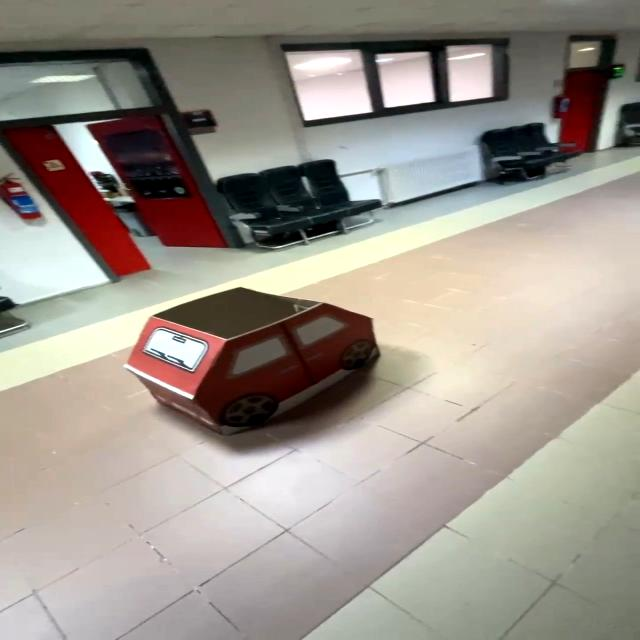red_car: (110, 280, 405, 445)
